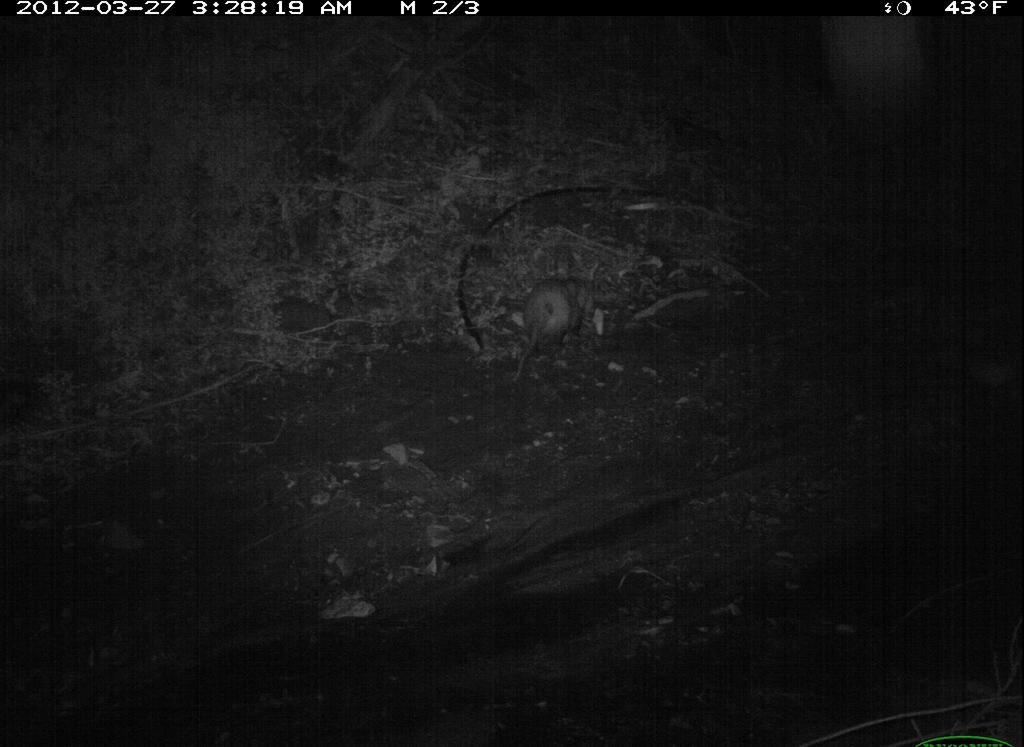opossum: (510, 268, 596, 397)
